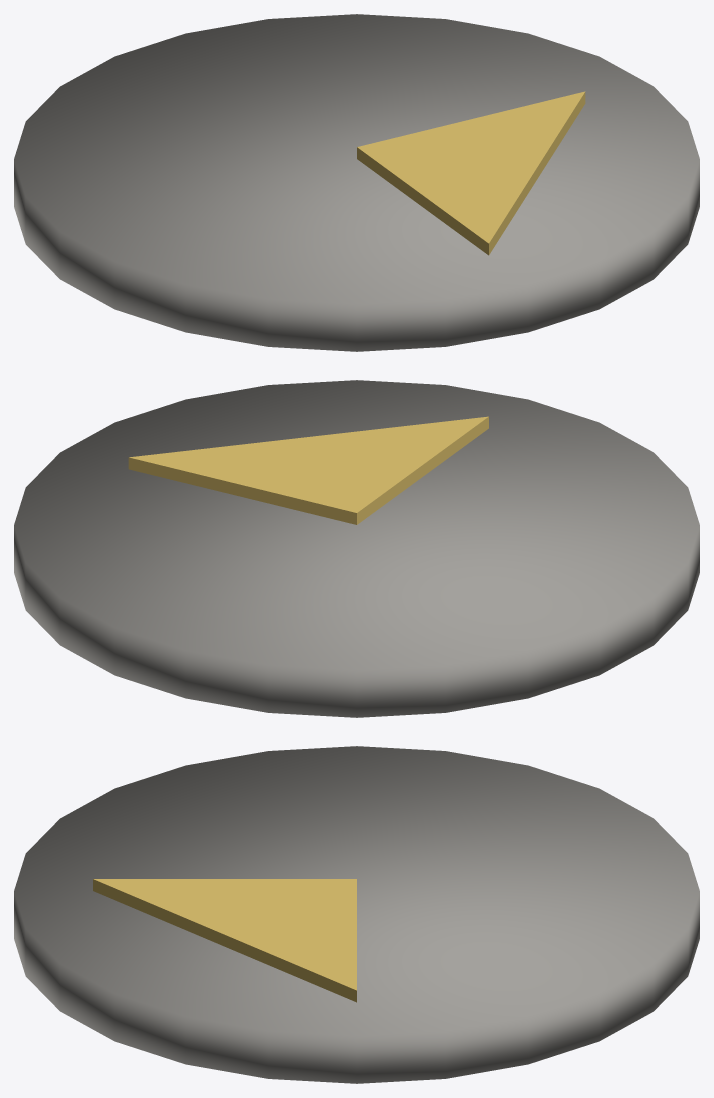
The model's file is science_sundial.glb.
The picture shows the model from 3 angles, top to bottom: view 1: azimuth 30°, elevation 25°; view 2: azimuth 150°, elevation 25°; view 3: azimuth 270°, elevation 25°; orthographic projection.
Visible parts, largest first — view 1: GD_science_sundial__m0, GD_science_sundial__m1; view 2: GD_science_sundial__m0, GD_science_sundial__m1; view 3: GD_science_sundial__m0, GD_science_sundial__m1.
Boxes of the visible parts, x1,y1,x2,y2 form: GD_science_sundial__m0: (14,14,699,351); GD_science_sundial__m1: (357,91,585,255); GD_science_sundial__m0: (14,380,699,717); GD_science_sundial__m1: (128,416,488,524); GD_science_sundial__m0: (14,746,699,1083); GD_science_sundial__m1: (93,879,356,1002).
Bounding box in the file's own units: 0.26 × 0.025 × 0.26.
